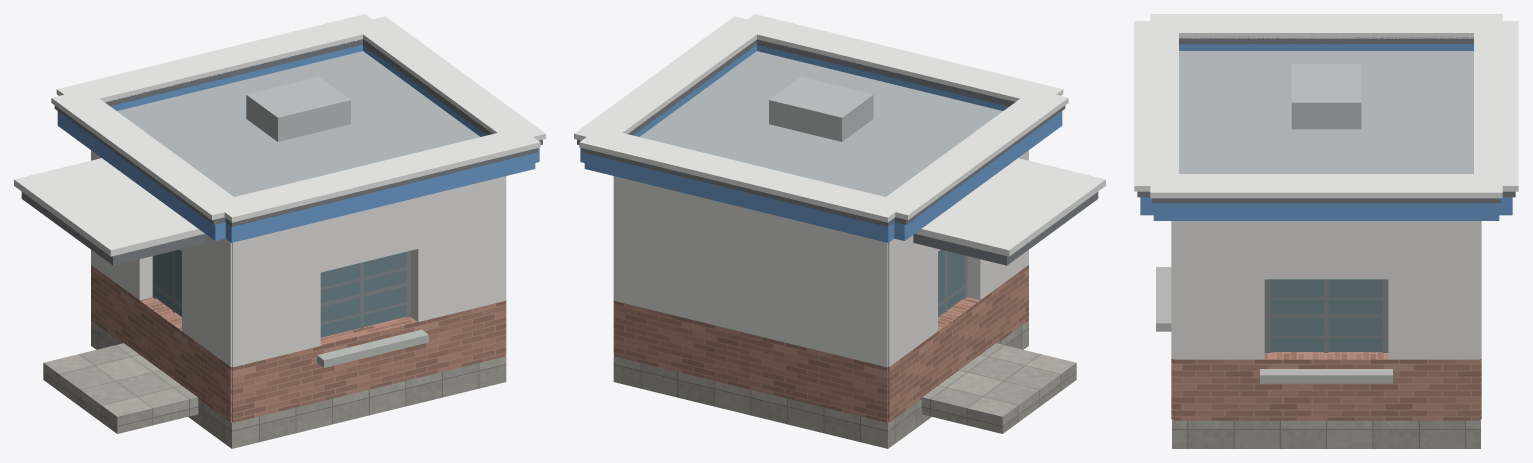
3 renders of one model, left to right at view 1: azimuth 30°, elevation 25°; view 2: azimuth 150°, elevation 25°; view 3: azimuth 270°, elevation 25°, orthographic. The views are drawn at different scales.
Parts seen in each view (by area): view 1: guard__cap, guard__panel, guard__metalroof, guard__brick, guard__blue, guard__stone, guard__threshold-front, guard__glass, guard__steel, guard__darkframe, guard__frame, guard__entrance (+1 smaller); view 2: guard__panel, guard__cap, guard__metalroof, guard__brick, guard__blue, guard__stone, guard__threshold-front, guard__steel, guard__darkframe, guard__entrance, guard__glass; view 3: guard__panel, guard__metalroof, guard__cap, guard__brick, guard__stone, guard__blue, guard__glass, guard__steel, guard__darkframe, guard__sill, guard__frame.
Boxes of the visible parts, x1,y1,x2,y2 form: guard__cap: (14, 14, 545, 256); guard__panel: (91, 150, 506, 367); guard__metalroof: (117, 51, 479, 196); guard__brick: (91, 265, 506, 422); guard__blue: (57, 44, 539, 242); guard__stone: (91, 320, 506, 448); guard__threshold-front: (43, 343, 198, 433); guard__glass: (155, 249, 406, 337); guard__steel: (246, 77, 350, 141); guard__darkframe: (54, 39, 542, 226); guard__frame: (152, 250, 410, 328); guard__entrance: (21, 192, 206, 265); guard__panel: (613, 150, 1028, 367); guard__cap: (574, 14, 1105, 256); guard__metalroof: (640, 51, 1002, 196); guard__brick: (613, 265, 1028, 422); guard__blue: (580, 44, 1062, 242); guard__stone: (613, 320, 1028, 448); guard__threshold-front: (921, 343, 1076, 433); guard__steel: (769, 77, 873, 141); guard__darkframe: (577, 39, 1065, 226); guard__entrance: (913, 192, 1098, 265); guard__glass: (938, 249, 964, 316); guard__panel: (1171, 221, 1481, 359); guard__metalroof: (1179, 51, 1473, 173); guard__cap: (1134, 14, 1518, 198); guard__brick: (1171, 352, 1481, 420); guard__stone: (1172, 419, 1480, 448); guard__blue: (1140, 44, 1512, 220); guard__glass: (1270, 279, 1382, 351); guard__steel: (1291, 63, 1361, 129); guard__darkframe: (1137, 37, 1515, 203); guard__sill: (1156, 267, 1392, 383); guard__frame: (1264, 279, 1388, 352).
Bounding box in the file's own units: 6.62 × 4.18 × 4.98.
Materials: 12 (2 with a texture image).
